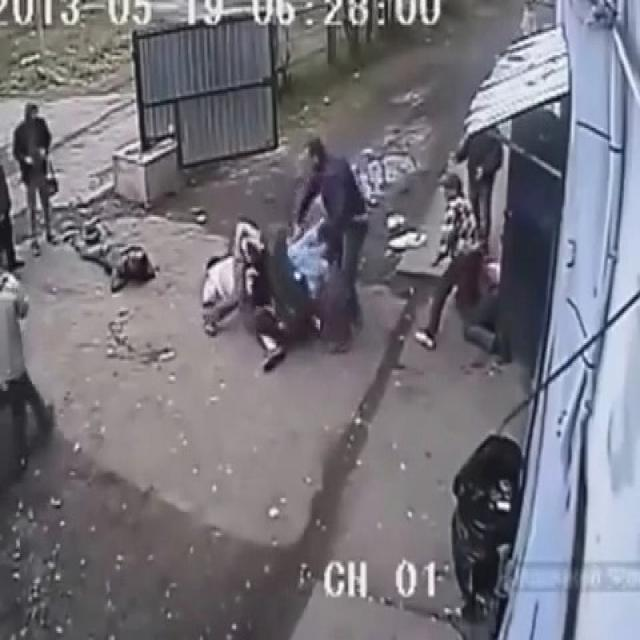fight: (198, 117, 400, 396)
